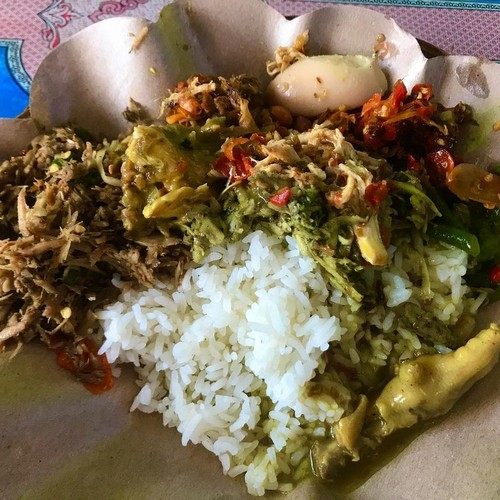lawar: (17, 133, 411, 233)
